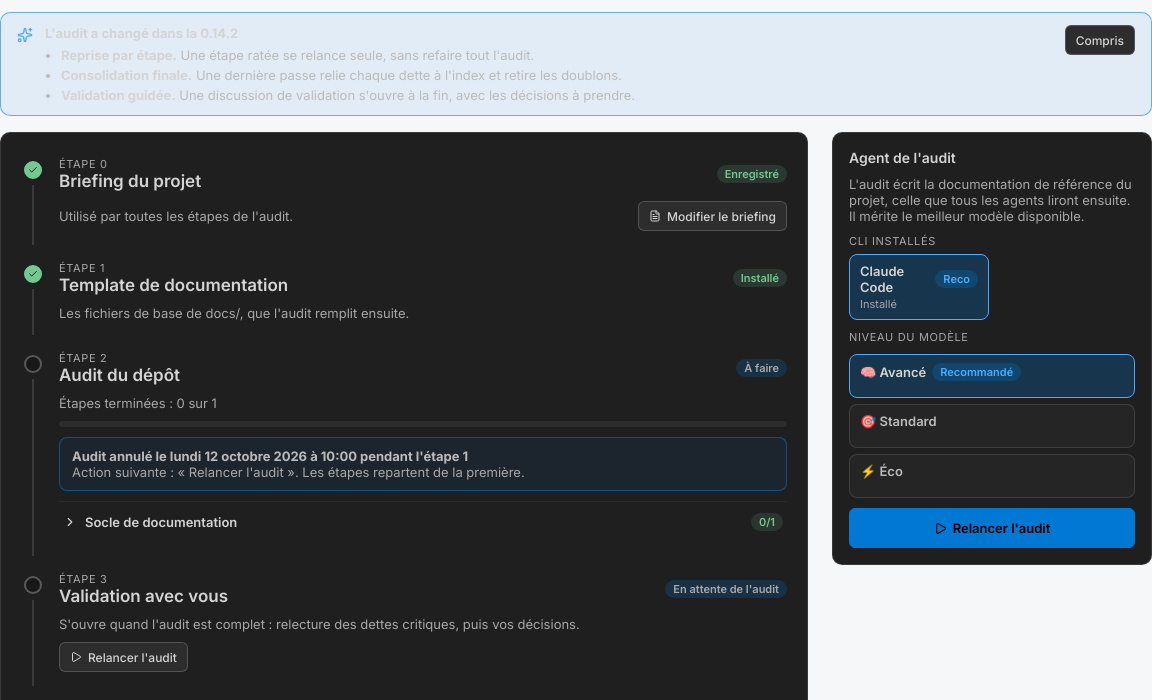
AuditTimeline — cancelled runs, half-written targets, drift › the real case: cancelled during step 1 reads « annulé », not « interrompu », and offers « Relancer l'audit »
The image size is (1152, 700).
expect the text with test id "audit-timeline-cancelled-next" reads "Action suivante : « Relancer l'audit ». Les étapes repartent de la première.": met, box [72,464,525,480]
expect the button with test id "audit-timeline-launch" reads "Relancer l'audit": met, box [849,508,1135,548]
Click the button with class "audit-tl-group-head" at (161, 522), box [59,502,787,542]
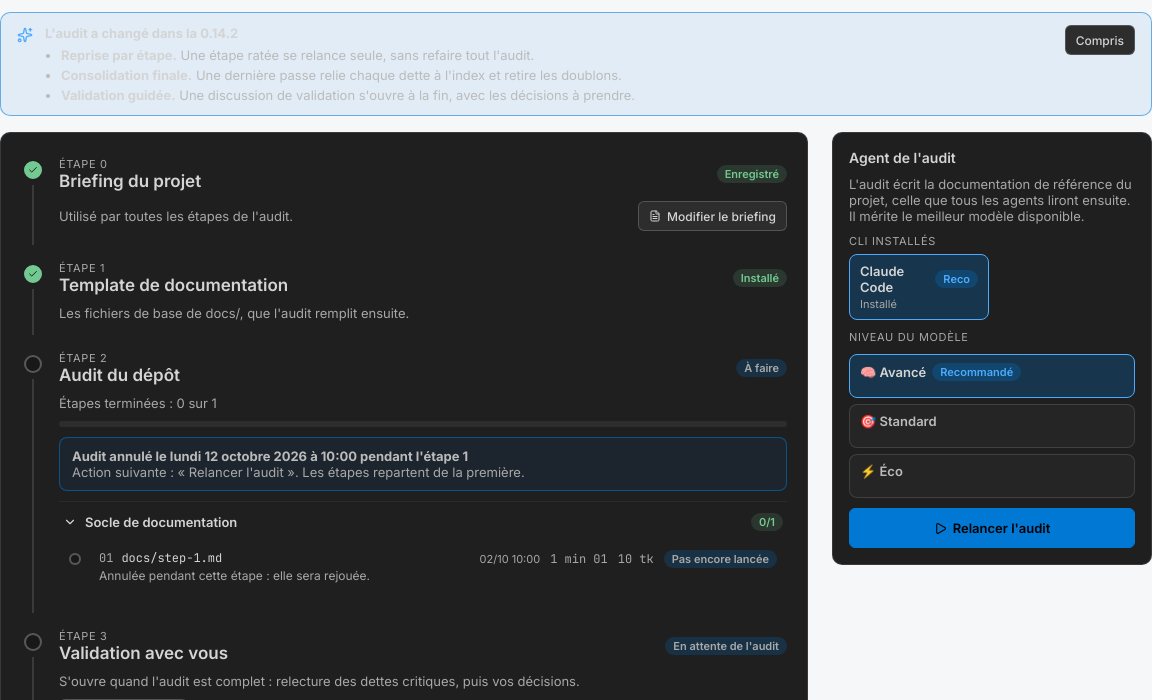
expect the text with test id "audit-timeline-step-cancelled-1" reads "Annulée pendant cette étape : elle sera rejouée.": met, box [99,568,370,583]
